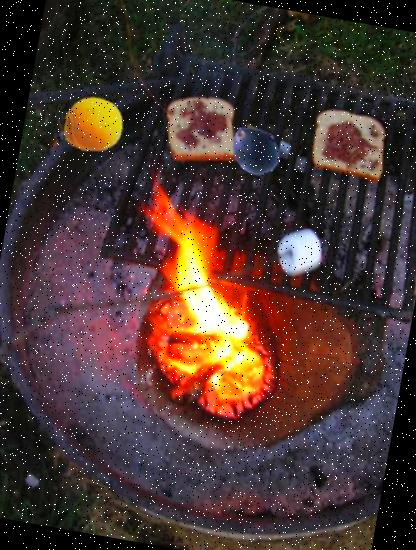Peach: (58, 88, 128, 160)
Plum: (223, 118, 286, 181)
